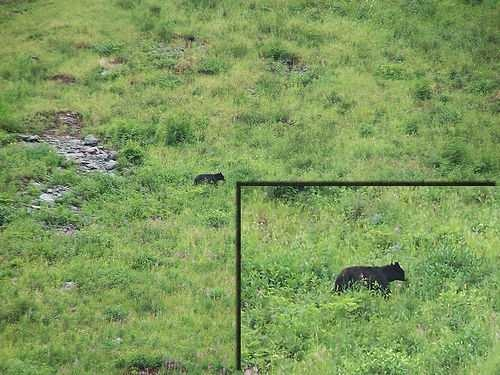bear: (305, 219, 433, 347)
